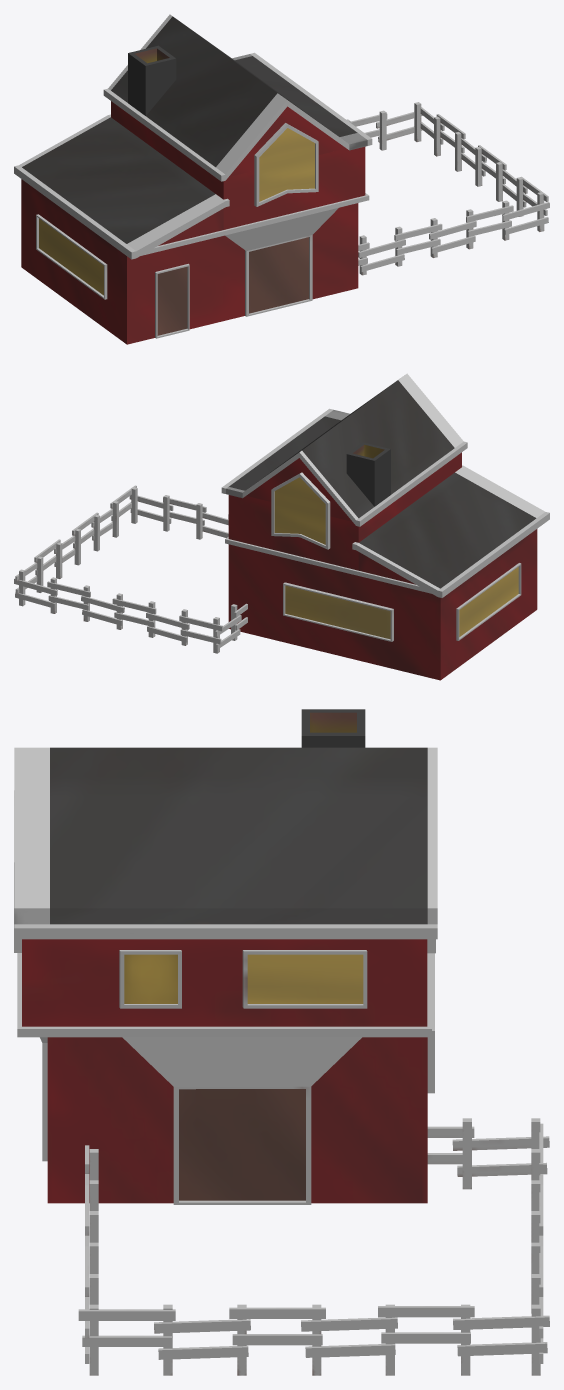
Rendered from barn.obj.
3 views of the same model, one above another, from view 1: azimuth 30°, elevation 25°; view 2: azimuth 150°, elevation 25°; view 3: azimuth 270°, elevation 25° (orthographic). The views are drawn at different scales.
Visible parts, largest first — view 1: barn; view 2: barn; view 3: barn.
Part boxes in pixels (bbox=[...]): barn: bbox=[14, 14, 549, 344]; barn: bbox=[14, 373, 549, 680]; barn: bbox=[14, 709, 549, 1375].
Bounding box in the file's own units: 24.54 × 11.47 × 14.46.
